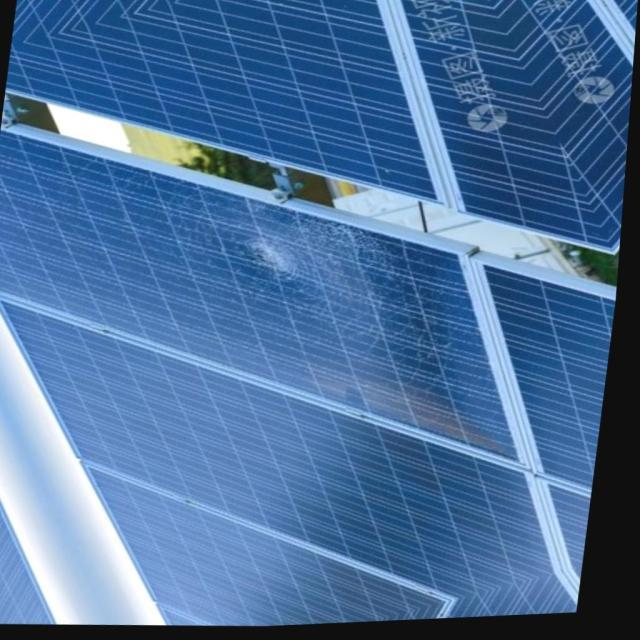cracked: (2, 130, 520, 458)
